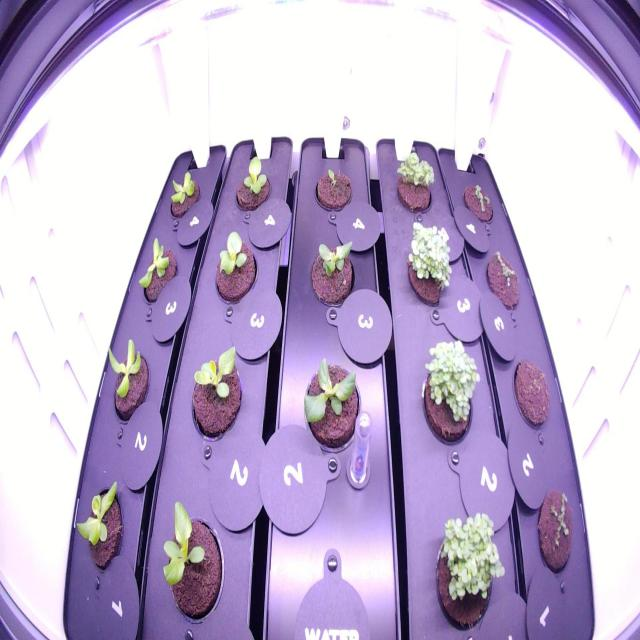germination: (428, 506, 509, 635), (414, 325, 485, 459), (399, 214, 458, 313), (532, 482, 580, 586), (390, 142, 440, 220), (481, 247, 524, 317), (308, 161, 354, 220), (456, 176, 499, 229)
pod: (508, 350, 554, 437)
young: (155, 497, 231, 632), (298, 350, 367, 462), (185, 333, 246, 453), (69, 472, 127, 584), (99, 329, 152, 428), (302, 233, 359, 318), (210, 226, 262, 310), (134, 233, 180, 313), (226, 149, 275, 217), (162, 163, 206, 226)
